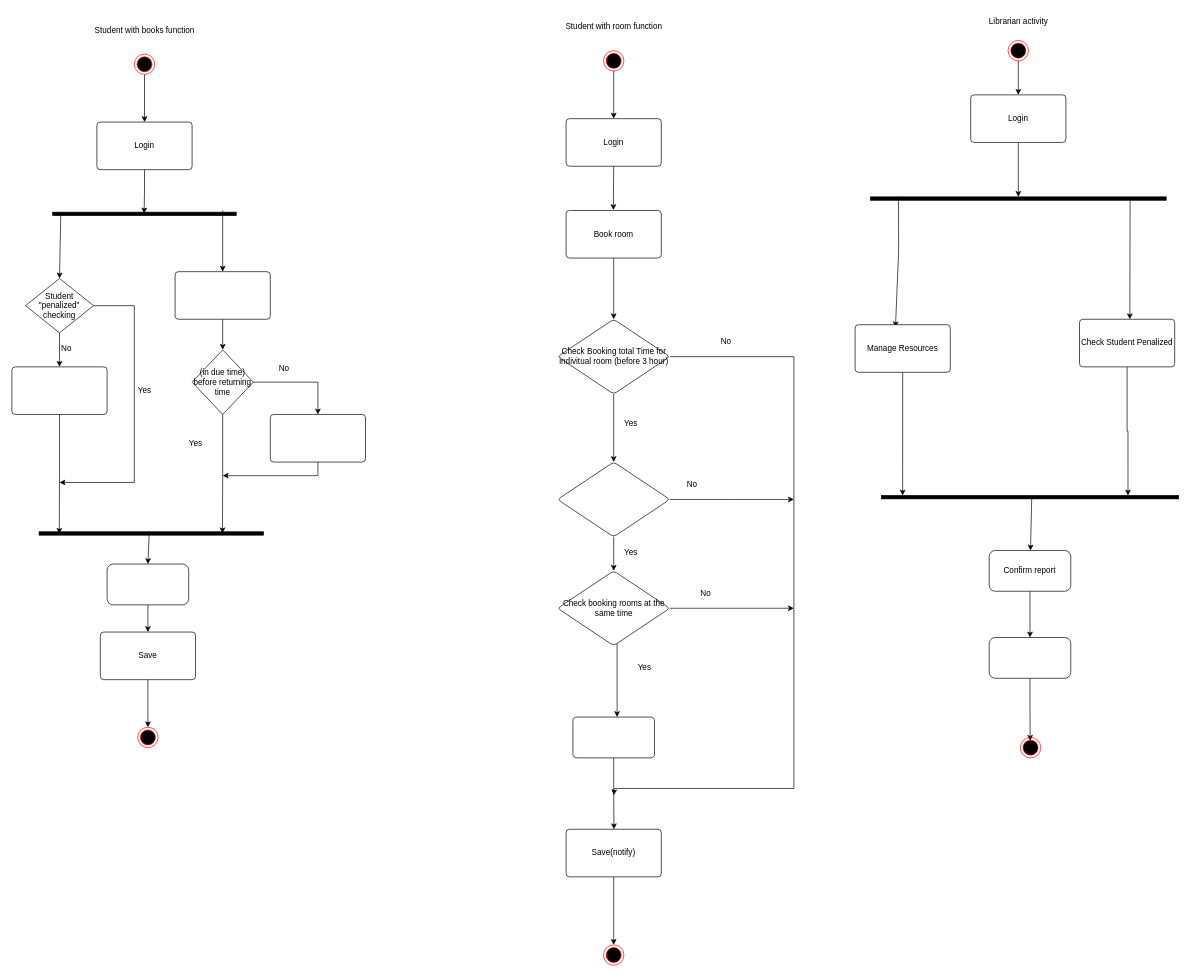
This 1191x977 diagram has some shape labels left out. Here are the shapes that lost their labels. From the top down, the centre of each, then its label:
the point at 222,295: ReturnBooks
the point at 59,390: BorrowBooks
the point at 318,438: Penalize Student
the point at 613,499: Check Time for booking another indivitual room (before 1 hour)
the point at 147,584: Confirm
the point at 1030,657: Saving
the point at 613,737: Confirm book rooms
